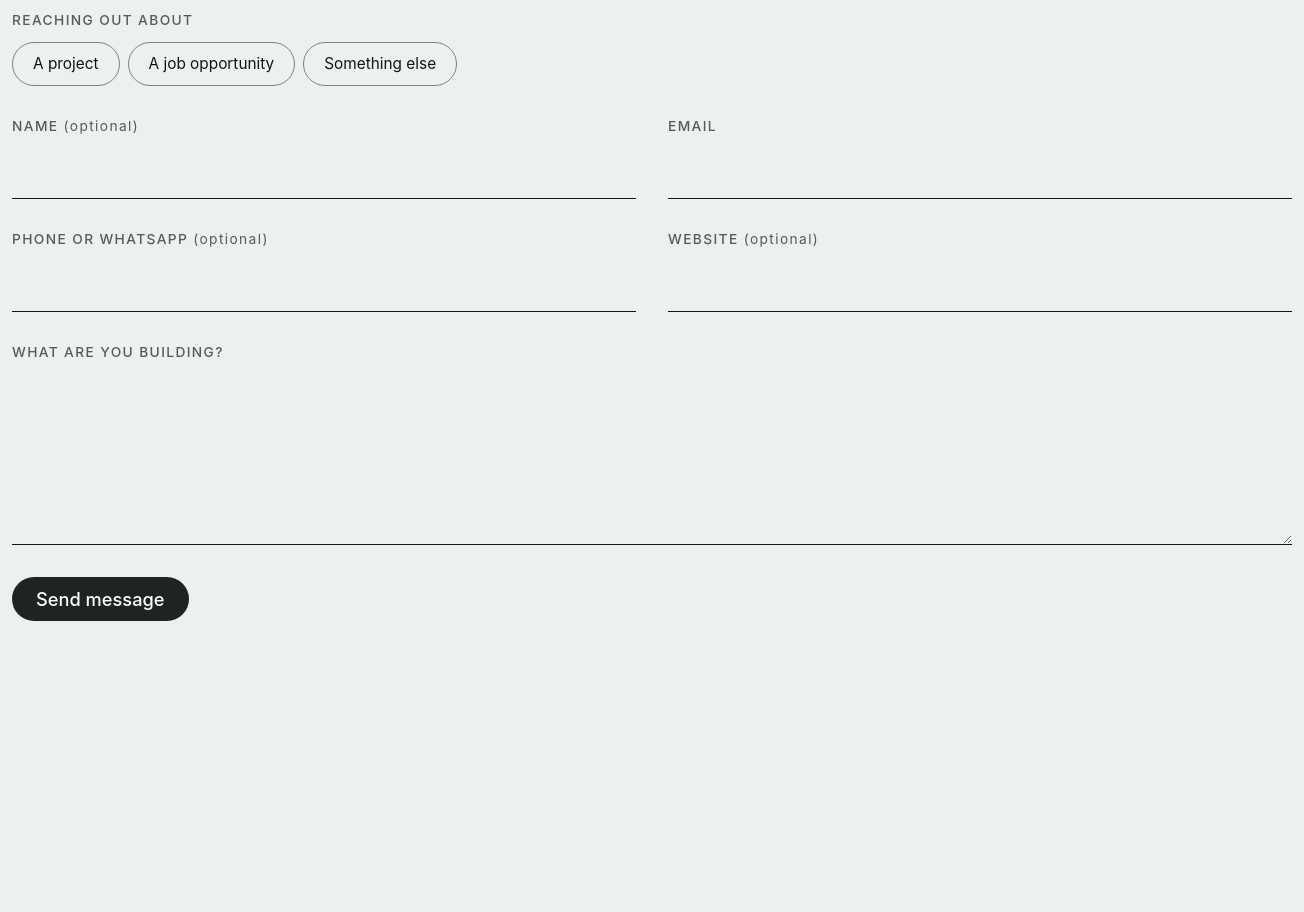
Test: confirms only after the server says the message was delivered
This screenshot has width=1304, height=912.
Click the radio button labelled "A project" at (66, 64), box [12,42,120,86]
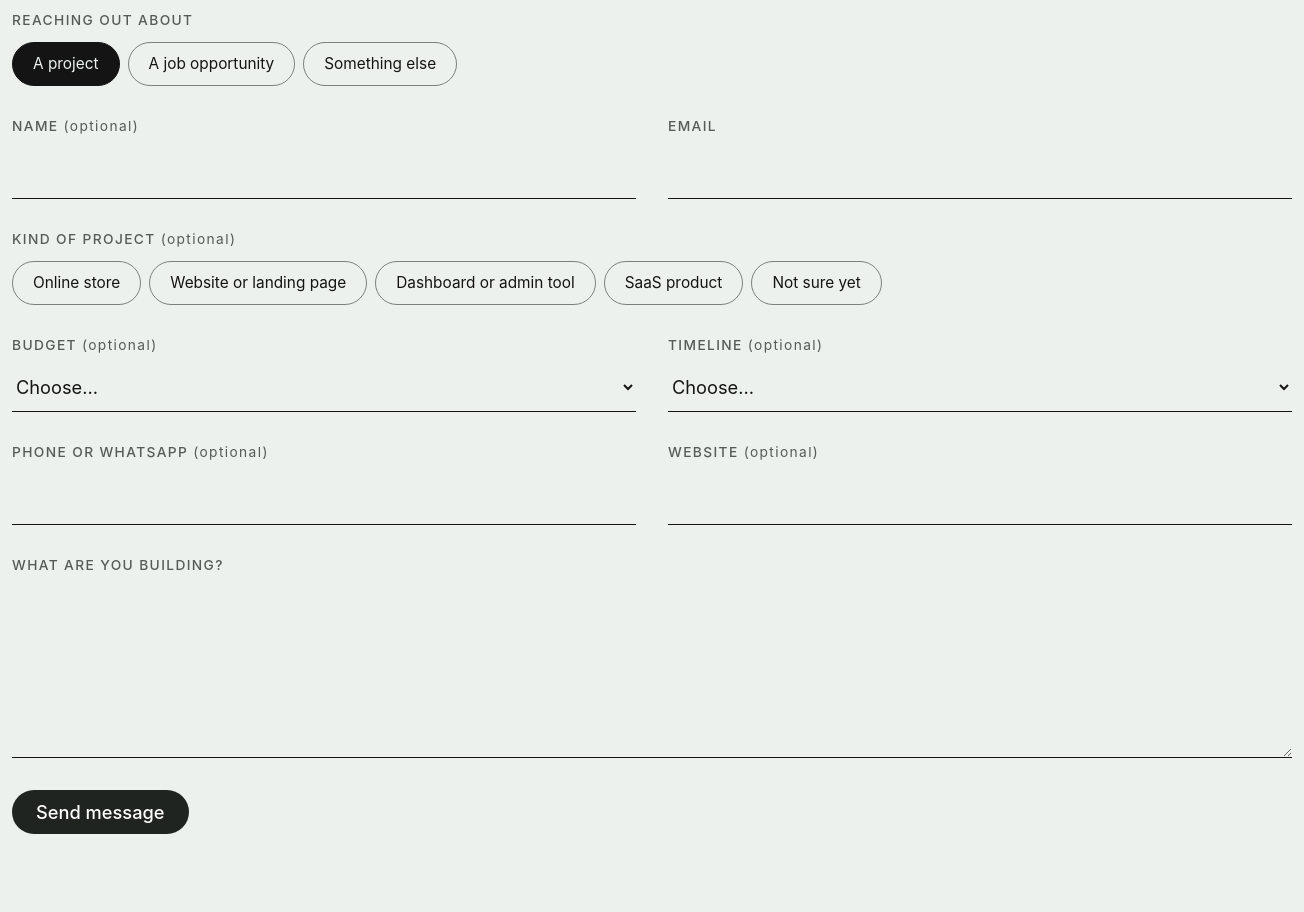
Type "sam@studio.co" into the field labelled "Email" at (980, 171), box [668,144,1292,199]
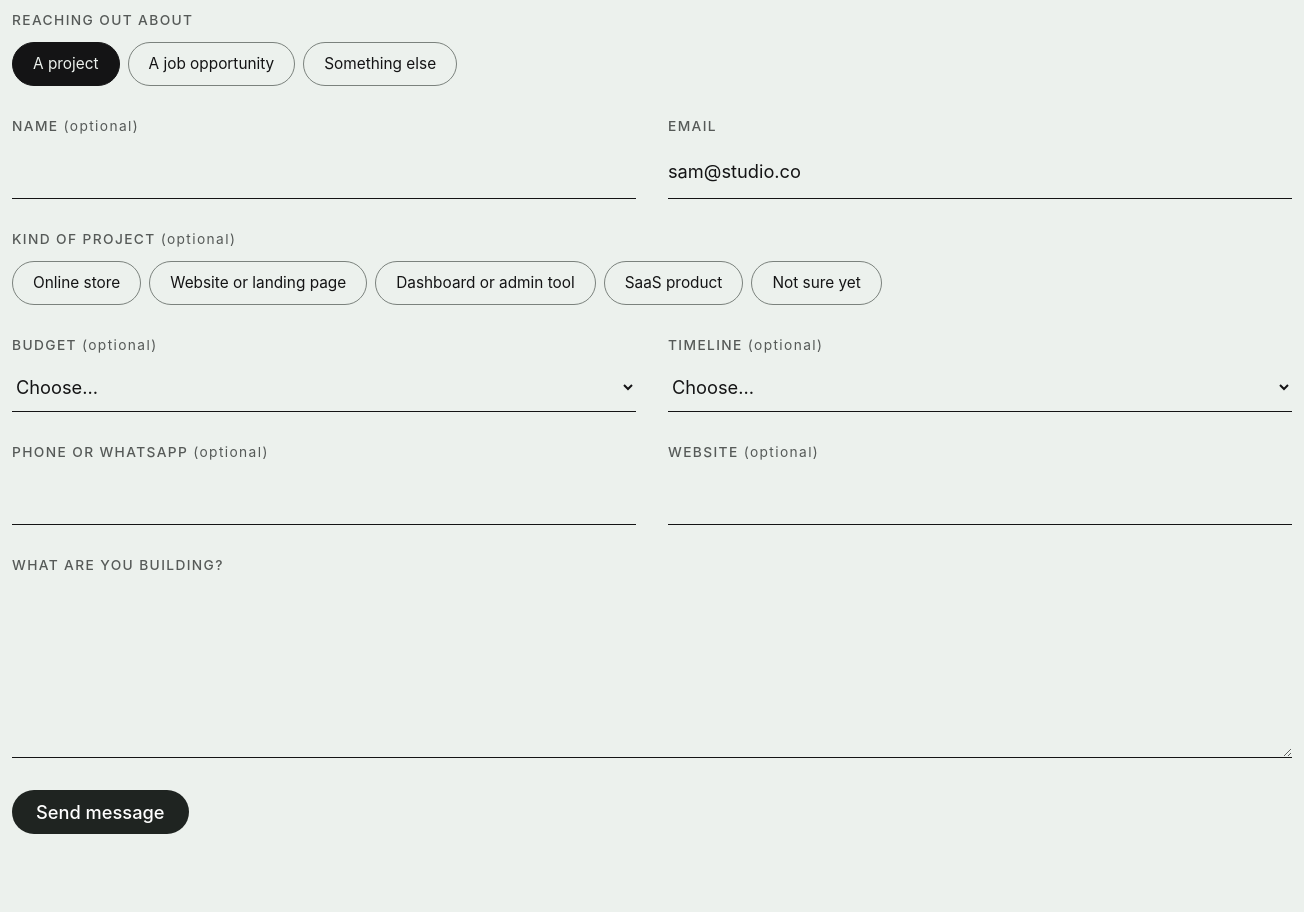
Type "I would like a storefront." into the text box labelled "What are you building?" at (652, 670), box [12,582,1292,758]
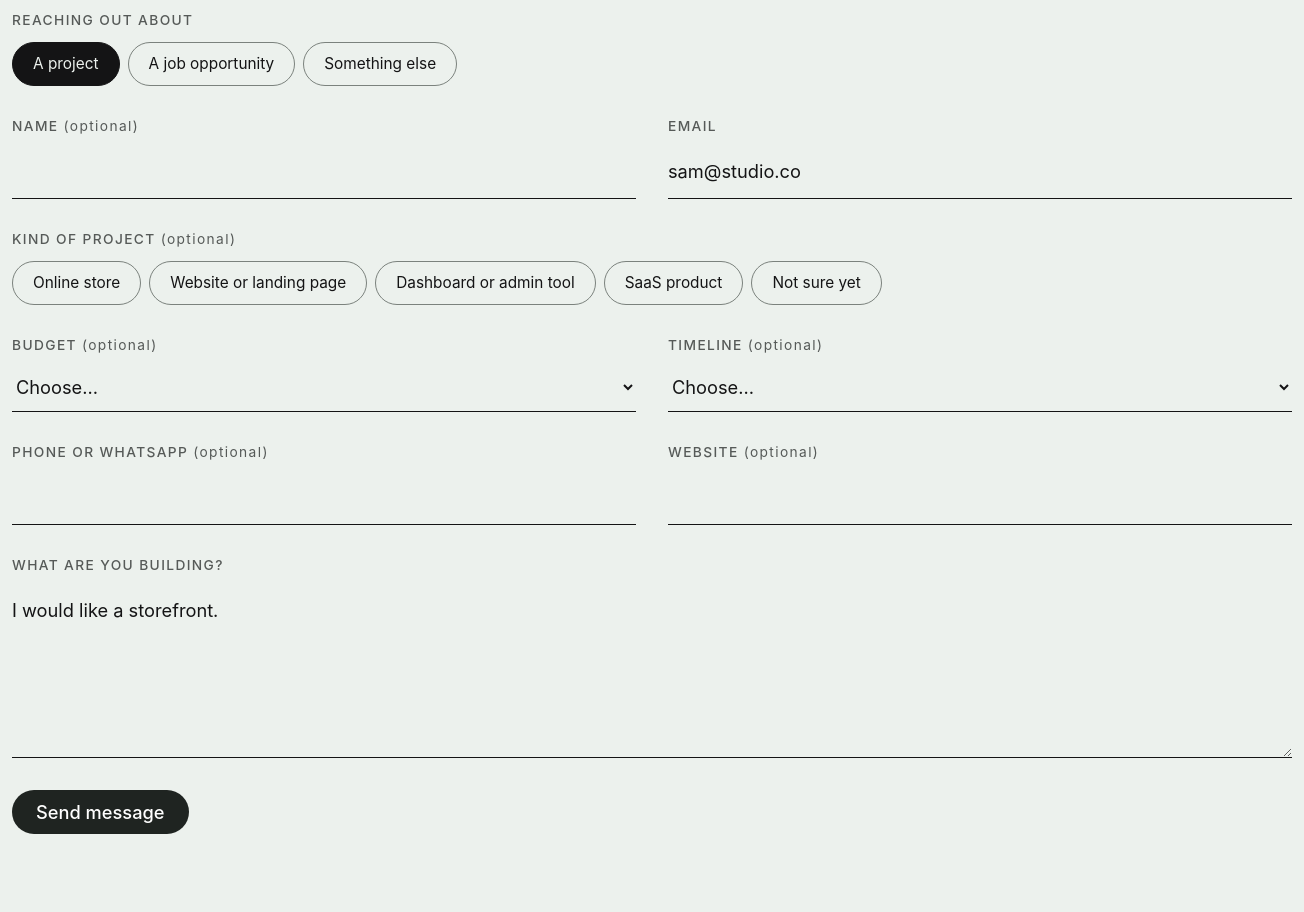
Click the button "Send message" at (100, 812), box [12,790,188,834]
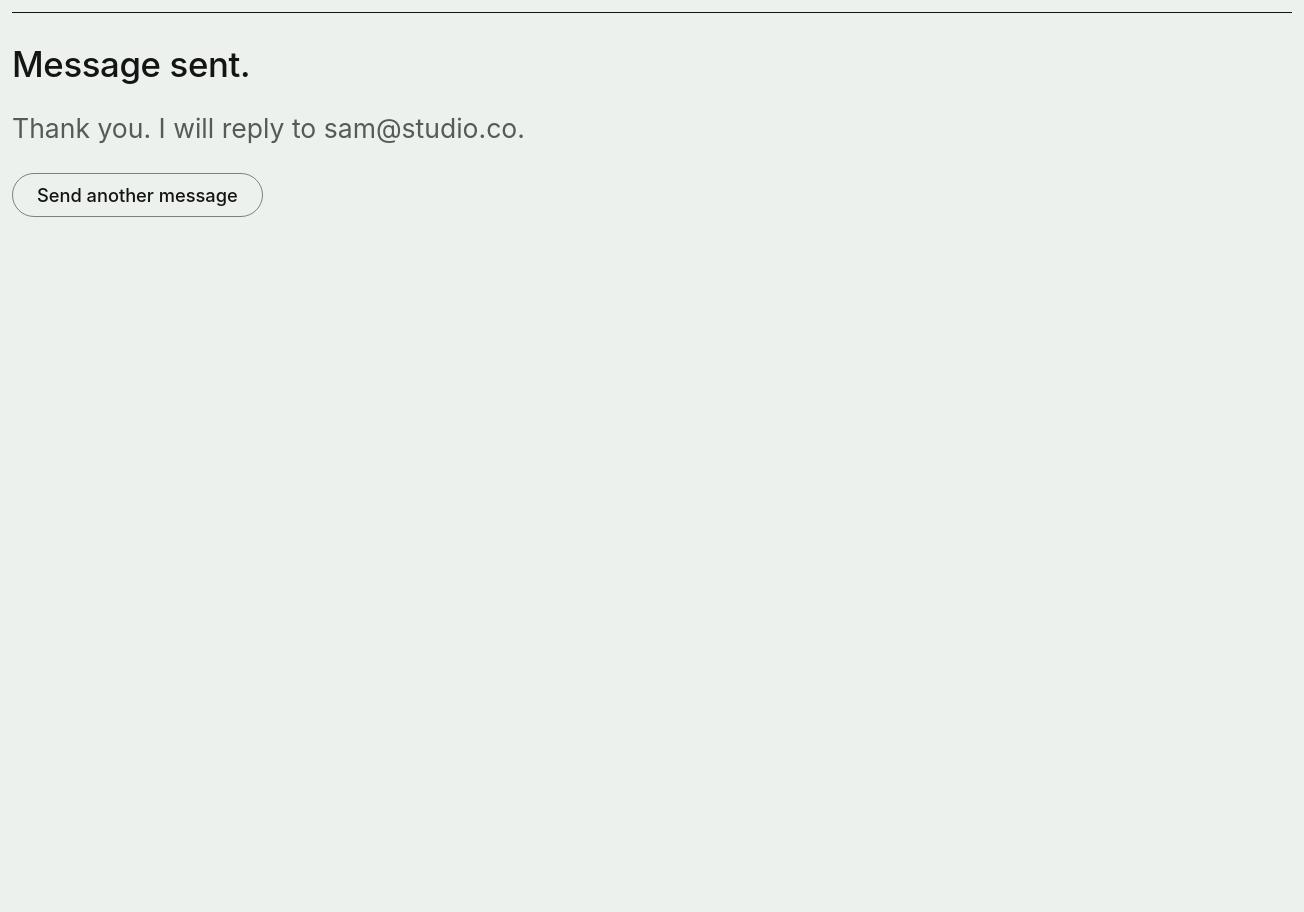
Result: the heading "Message sent." is shown at [12,43,250,85]
